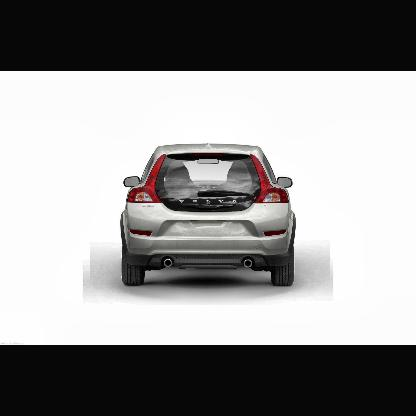Volvo C30 Hatchback 2012: (117, 140, 301, 296)
